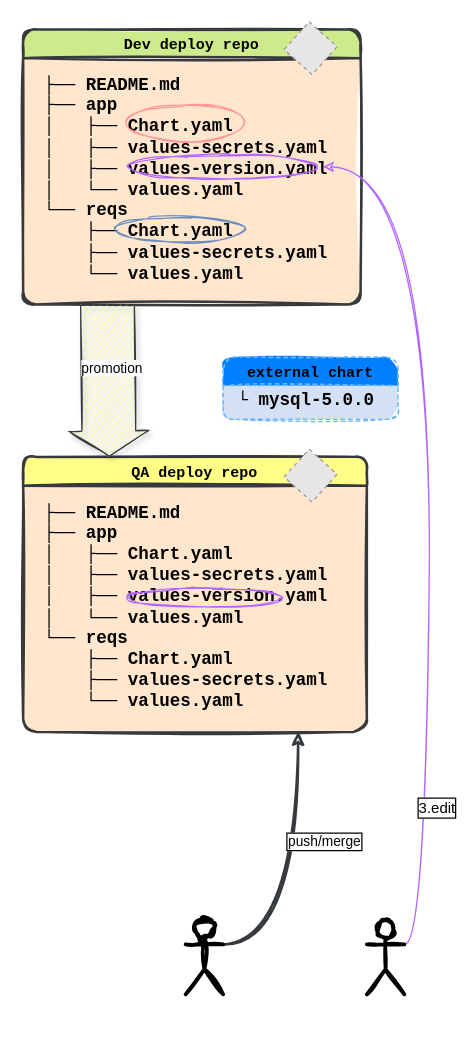
Some shapes in this 476 by 1043 pixel diagram are drawn without their labels. Grey dashed boxes stand in for pictures. The shapes that lost their labels are listed below. From the top down, each one's centre as x and y in pixels, then its label:
pixel 203 956: QAnalyst
pixel 385 956: dev
